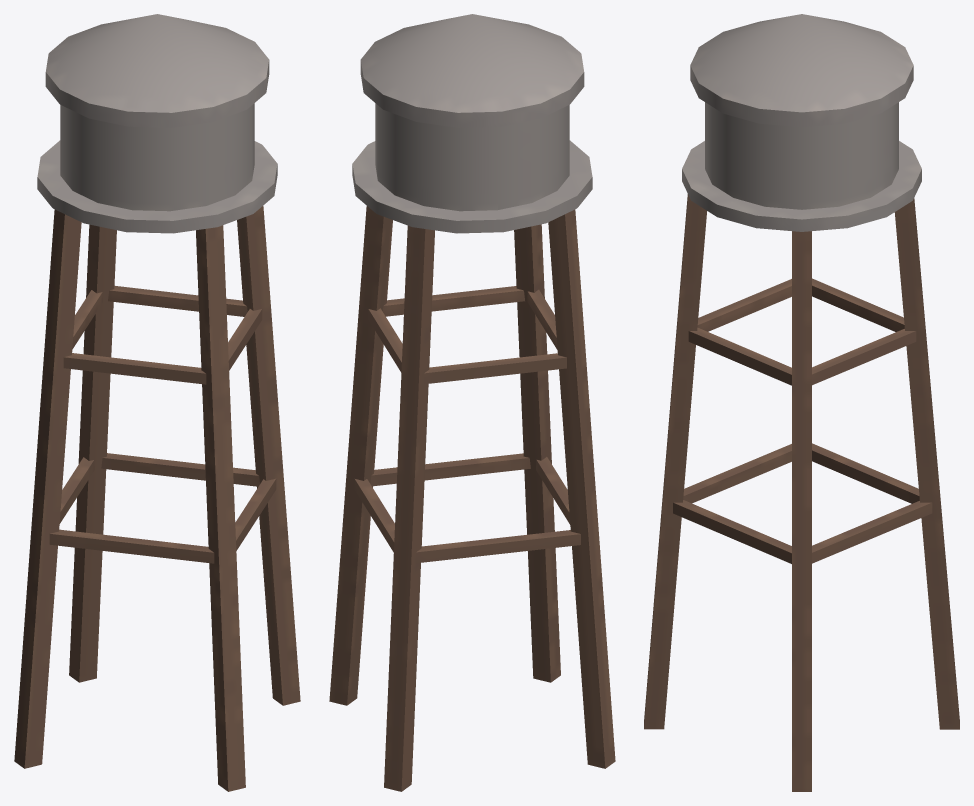
The picture shows the model from 3 angles, left to right: view 1: azimuth 30°, elevation 25°; view 2: azimuth 150°, elevation 25°; view 3: azimuth 270°, elevation 25°; orthographic projection.
Parts seen in each view (by area): view 1: Ta; view 2: Ta; view 3: Ta.
Part boxes in pixels (x1,y1,x2,y2): Ta: (14, 14, 300, 791); Ta: (329, 14, 615, 791); Ta: (644, 14, 959, 791).
Size of the model in its own units: 314 by 779 by 314.
